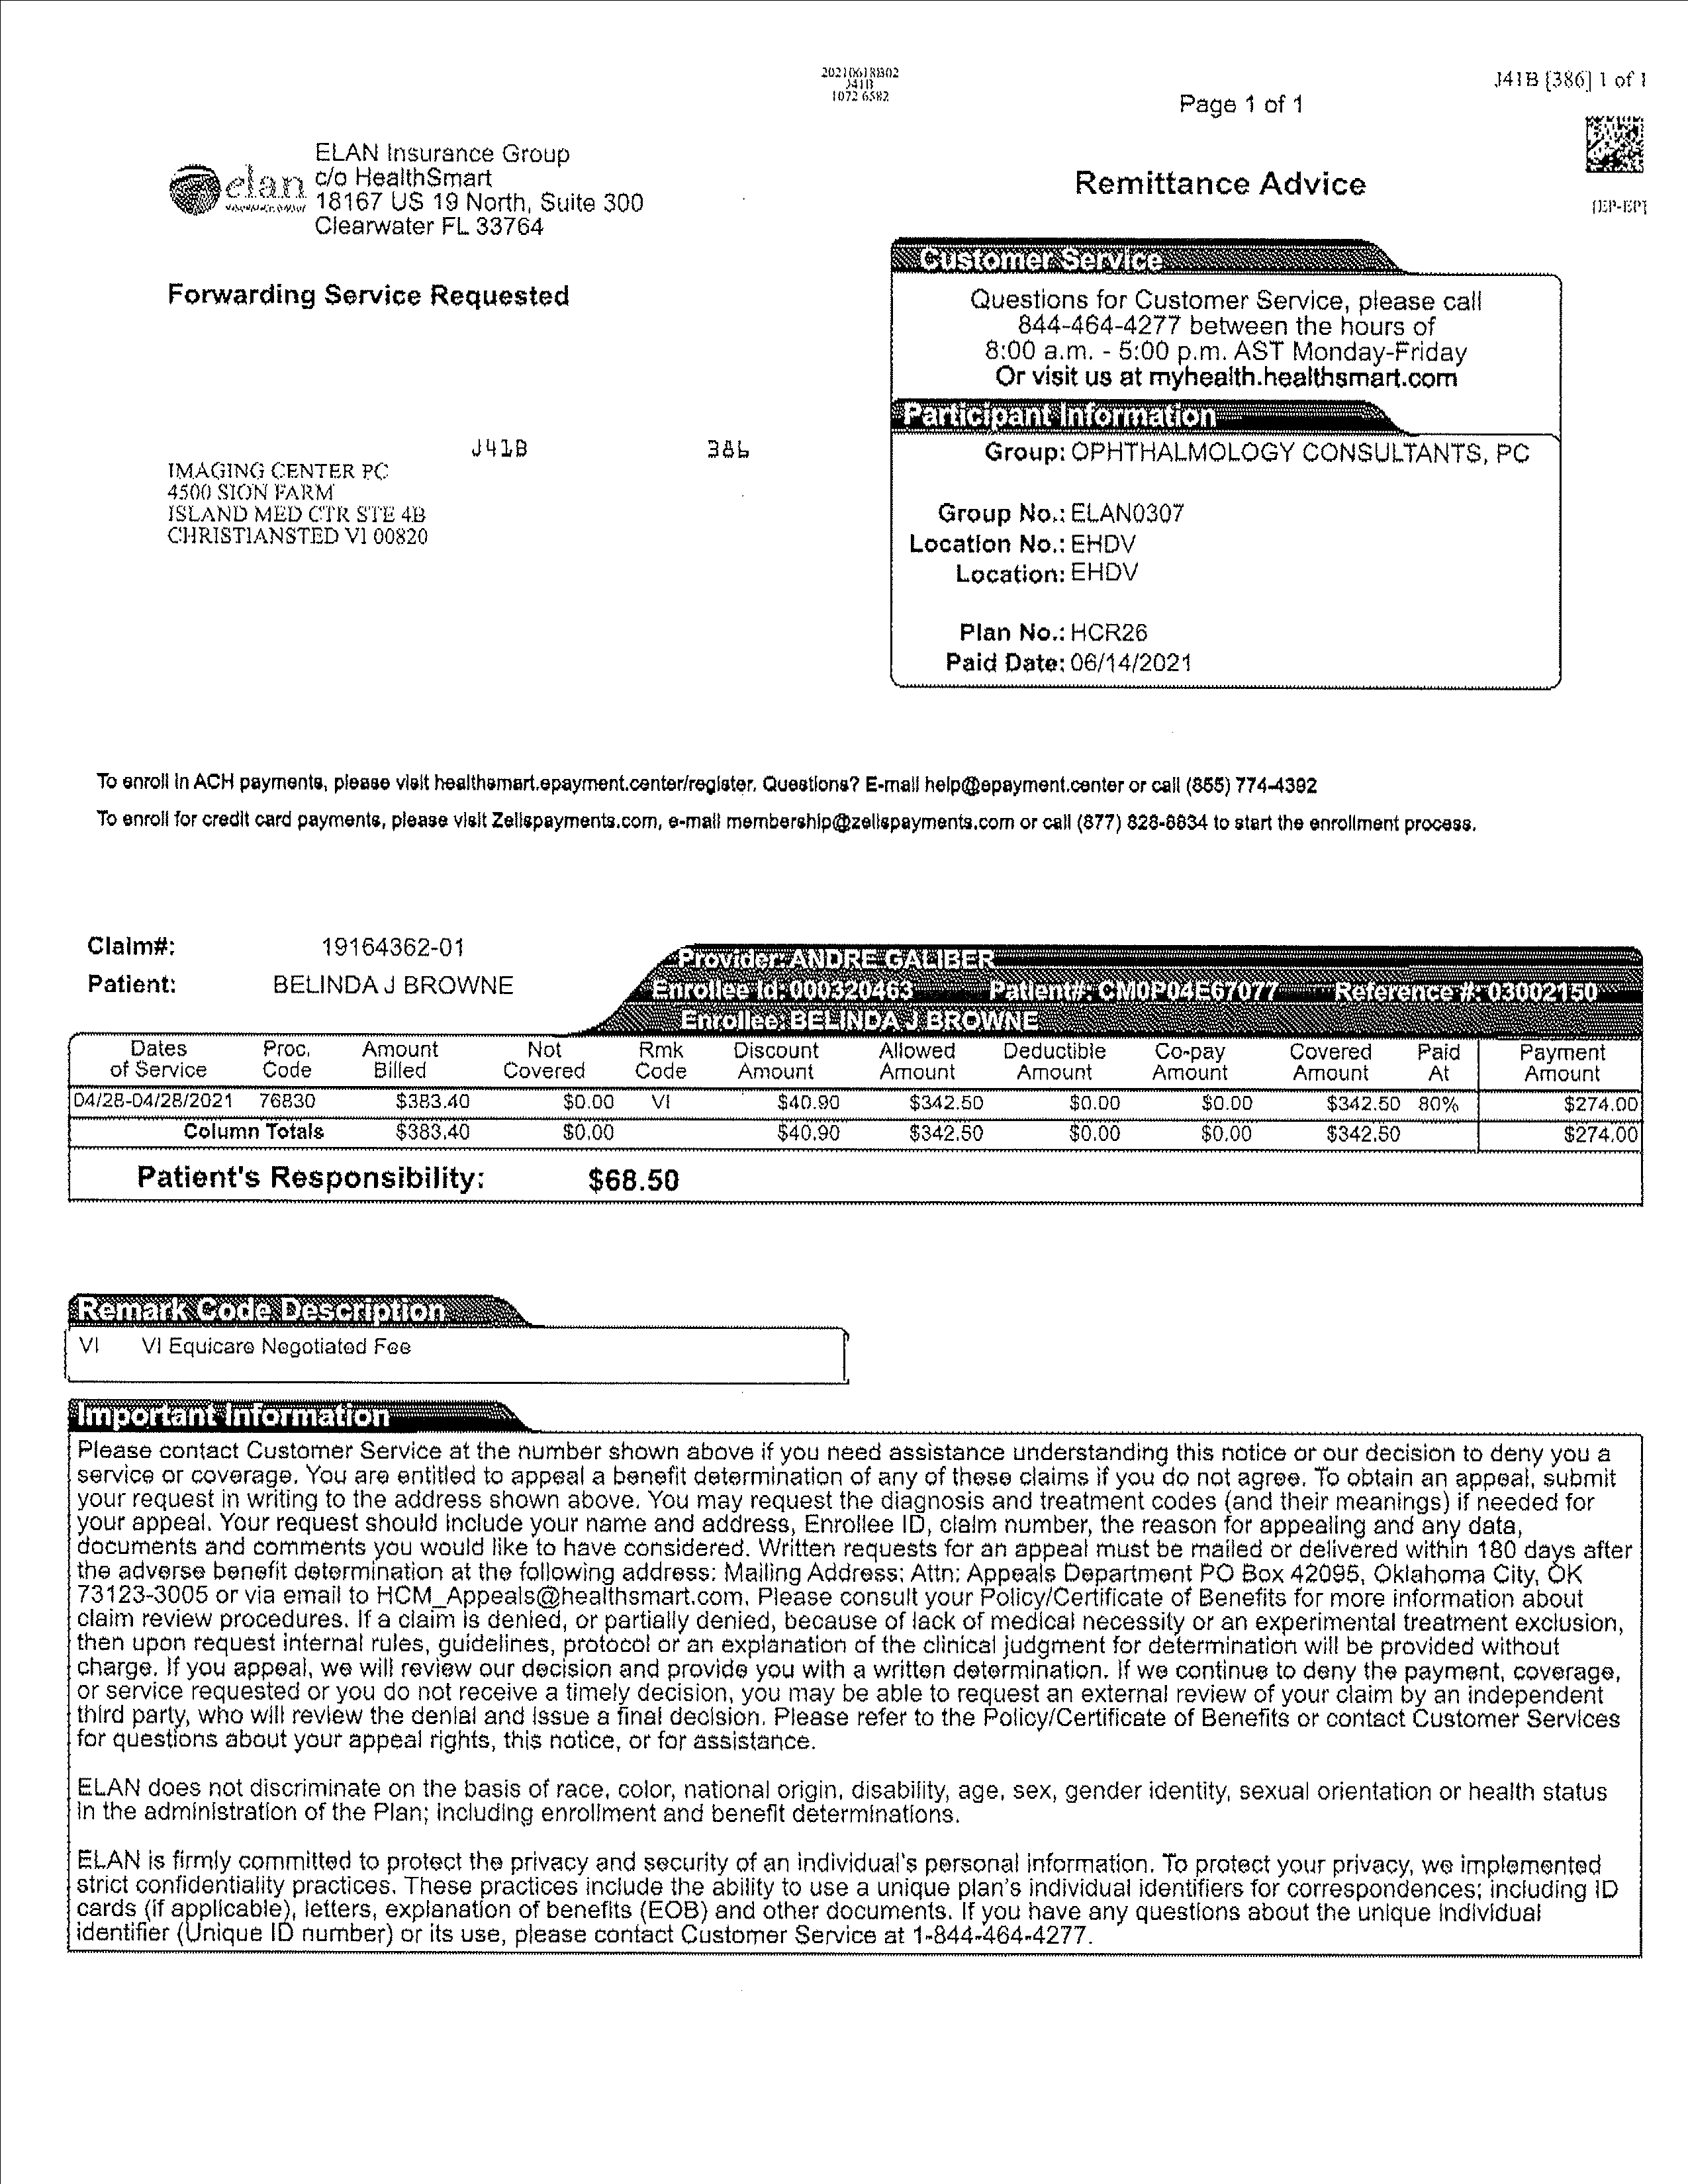data: (881, 223, 1580, 706), (653, 932, 1615, 1042), (83, 925, 523, 1018)
table: (39, 1030, 1637, 1165)
